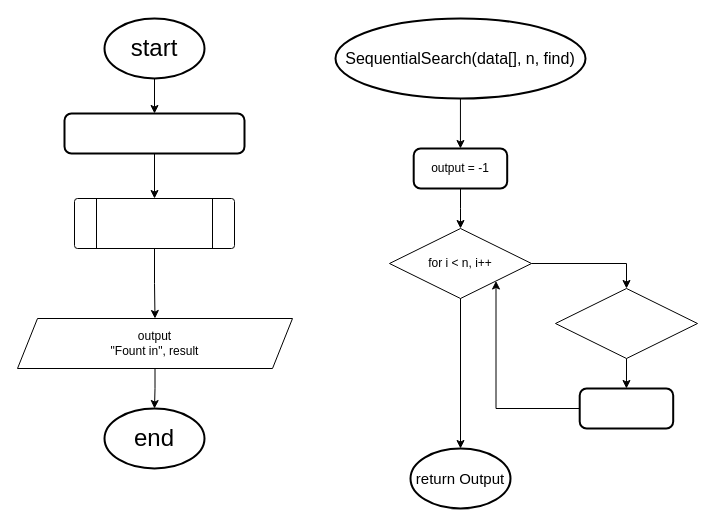
Image size: 715x526. Some labels were removed from this diagram. The centre of each missing label's shape, as x and y in pixels:
if (data[i] == find: [626,323]
RealData[6] = {7, 4, 1, 8, 3, 2}: [154,133]
result = SequentialSearch(RealData, 6, 8): [154,223]
return i: [626,408]
